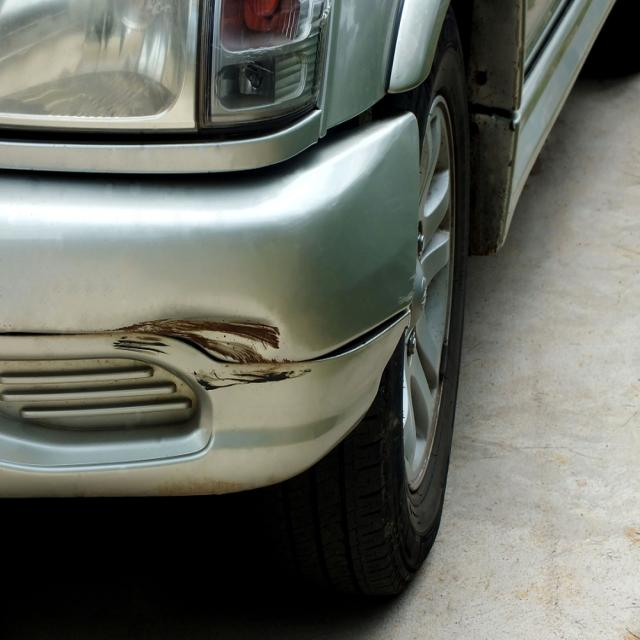dent: (138, 301, 300, 362)
scratch: (194, 365, 317, 391), (110, 328, 175, 355)
